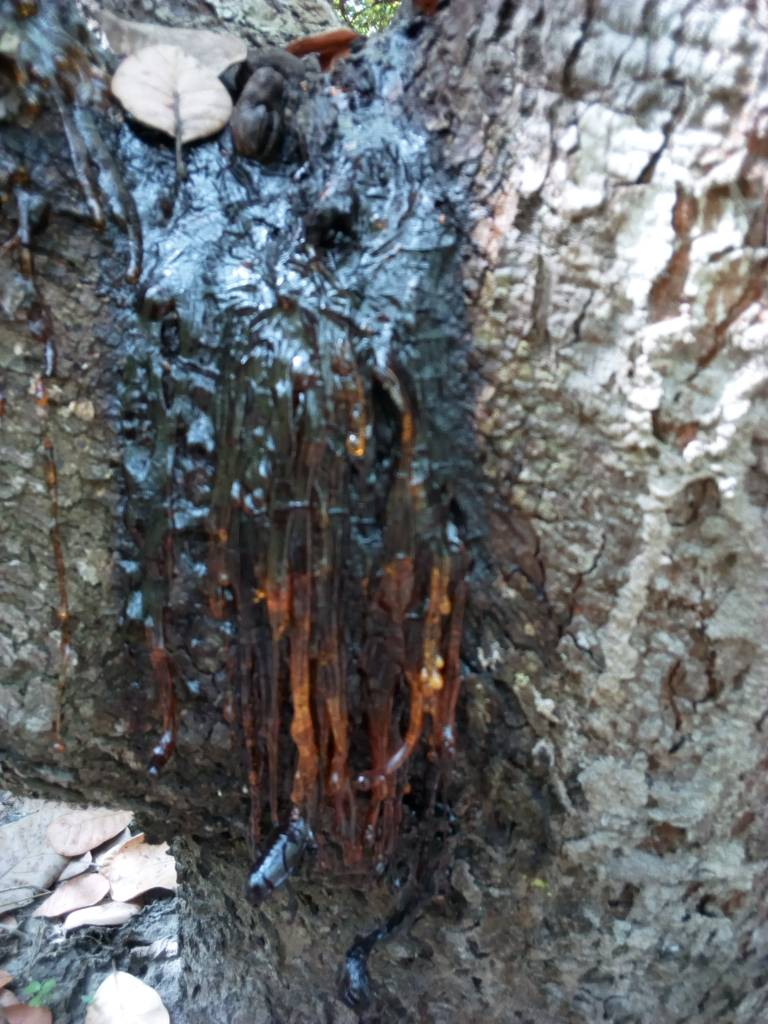Gommose: (91, 75, 466, 872)
